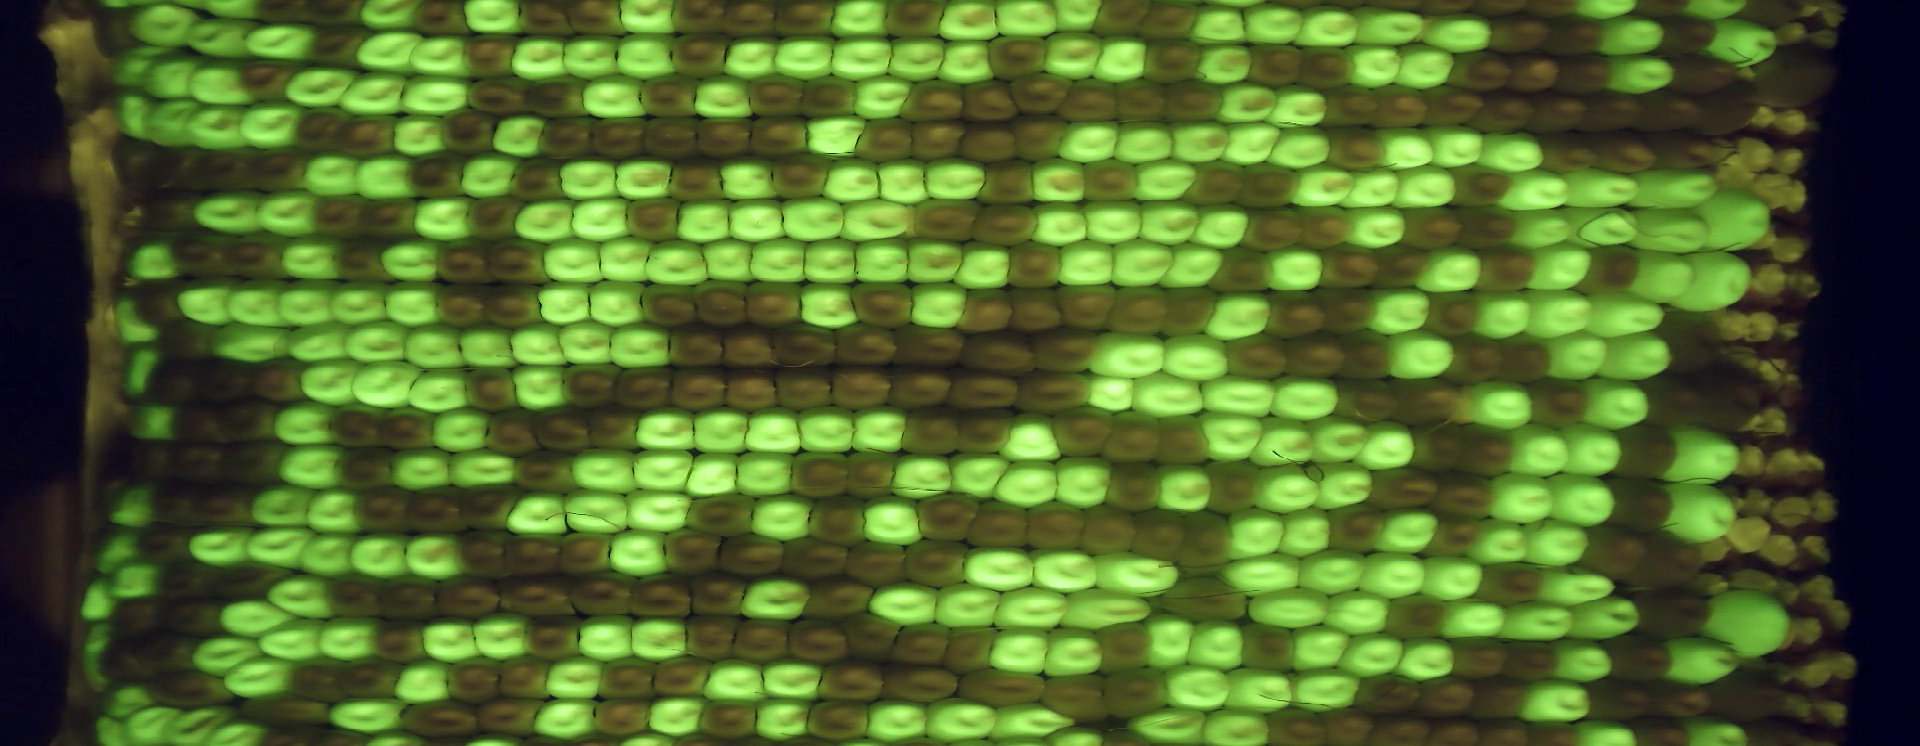fluorescent: (1700, 582, 1796, 668), (1660, 420, 1750, 492), (1674, 246, 1757, 318), (1087, 545, 1191, 603), (1696, 183, 1776, 257), (1656, 478, 1740, 548), (1625, 201, 1718, 261), (1056, 584, 1156, 639), (1082, 323, 1176, 382), (1581, 285, 1671, 345), (1596, 323, 1678, 390), (1656, 631, 1745, 691), (1513, 284, 1600, 345), (1542, 468, 1622, 533), (1629, 160, 1725, 214), (562, 440, 647, 501), (1381, 326, 1462, 390), (1243, 461, 1327, 521), (1411, 239, 1490, 303), (1512, 671, 1599, 729), (1245, 412, 1324, 475), (1575, 375, 1654, 437), (1215, 661, 1299, 720), (1265, 369, 1349, 428), (1704, 10, 1787, 70), (1495, 419, 1577, 479), (1558, 200, 1644, 256), (184, 55, 262, 118), (1351, 546, 1434, 605), (347, 355, 426, 416), (204, 316, 299, 367), (1216, 548, 1310, 599), (249, 181, 324, 245), (1558, 160, 1647, 214), (981, 699, 1090, 744), (991, 405, 1069, 467), (1283, 661, 1367, 719), (1160, 327, 1236, 390), (862, 575, 948, 630), (742, 489, 824, 546), (240, 519, 322, 577), (1198, 371, 1281, 428), (1127, 369, 1213, 423), (272, 439, 351, 497), (1629, 244, 1702, 307), (1554, 419, 1629, 481), (1036, 26, 1112, 87), (224, 273, 300, 334), (1199, 285, 1275, 347), (955, 539, 1043, 592), (628, 399, 705, 459), (1464, 374, 1536, 439), (253, 611, 332, 670), (1304, 456, 1382, 514), (917, 693, 1007, 745), (400, 526, 474, 588), (993, 582, 1076, 637), (1119, 698, 1215, 746), (713, 149, 789, 209), (173, 273, 249, 333), (504, 194, 585, 250), (1293, 545, 1374, 601), (1245, 584, 1336, 635), (1104, 233, 1182, 292), (736, 401, 813, 459), (216, 654, 304, 706), (606, 523, 677, 587), (122, 1, 208, 54), (104, 40, 182, 98), (737, 570, 816, 627), (1156, 659, 1234, 717), (1359, 282, 1433, 343), (1195, 407, 1269, 468), (1284, 619, 1359, 679), (156, 695, 242, 746), (1516, 514, 1597, 570), (135, 89, 204, 153), (557, 483, 634, 540), (1365, 119, 1442, 176), (238, 18, 328, 67), (1037, 620, 1109, 681), (578, 70, 656, 126), (392, 71, 478, 122), (1466, 284, 1539, 344), (1484, 469, 1558, 529), (1463, 511, 1537, 571), (234, 96, 309, 154), (414, 611, 489, 670), (1024, 543, 1103, 598), (1368, 503, 1447, 559), (1185, 612, 1251, 679), (899, 232, 975, 289), (272, 277, 348, 334), (1524, 239, 1600, 296), (754, 652, 835, 706), (1305, 407, 1378, 467), (322, 690, 413, 737), (857, 692, 939, 745), (1498, 595, 1580, 648), (276, 230, 349, 289), (1416, 9, 1501, 59), (502, 316, 577, 374), (602, 316, 677, 374), (640, 235, 720, 289), (180, 11, 263, 62), (186, 186, 269, 238), (1049, 452, 1118, 514), (1271, 502, 1340, 565), (407, 191, 482, 247), (624, 442, 700, 499), (135, 48, 206, 108), (244, 479, 324, 532), (334, 65, 411, 120), (313, 611, 391, 666), (1053, 234, 1125, 293), (298, 350, 370, 409), (1495, 165, 1580, 216), (949, 236, 1022, 294), (741, 232, 814, 289), (790, 401, 863, 458), (1107, 115, 1185, 169), (497, 488, 576, 541), (1599, 49, 1681, 100), (181, 98, 256, 154), (376, 233, 451, 289), (1258, 241, 1332, 298), (1419, 119, 1495, 174), (1220, 503, 1291, 562), (989, 453, 1062, 511), (383, 439, 456, 496), (984, 621, 1057, 679), (1184, 197, 1256, 255), (181, 522, 262, 573), (1527, 566, 1621, 610), (1474, 125, 1551, 179), (1539, 330, 1616, 383), (347, 149, 420, 206), (441, 443, 525, 492), (698, 652, 771, 708), (529, 690, 602, 746), (856, 491, 924, 551), (880, 450, 956, 503), (684, 403, 760, 457), (620, 485, 696, 539), (1569, 593, 1644, 647), (1209, 75, 1284, 129), (729, 447, 801, 503), (425, 403, 497, 459), (609, 29, 686, 82), (841, 194, 918, 246), (1594, 10, 1671, 62), (1156, 457, 1221, 519), (323, 274, 397, 330), (1414, 550, 1488, 605), (214, 595, 301, 642), (1347, 2, 1431, 50), (280, 62, 359, 114), (1153, 239, 1228, 293), (264, 570, 339, 624), (817, 152, 887, 209), (1164, 114, 1236, 170), (624, 611, 696, 668), (920, 152, 996, 205), (931, 579, 1007, 632), (190, 628, 269, 679), (86, 521, 149, 583), (1353, 416, 1420, 475), (849, 232, 917, 289), (1131, 195, 1206, 247), (400, 365, 475, 418), (1336, 628, 1411, 681), (590, 230, 660, 287), (845, 401, 915, 457), (345, 529, 415, 586), (770, 29, 841, 85), (880, 29, 951, 85), (457, 147, 528, 202), (904, 278, 975, 333), (348, 27, 424, 78), (744, 692, 820, 744), (1236, 1, 1315, 50), (269, 396, 342, 450), (642, 688, 714, 742), (1389, 160, 1461, 214), (1340, 198, 1412, 252), (573, 608, 640, 665), (1141, 608, 1199, 675), (1545, 635, 1622, 685), (1433, 595, 1513, 643), (800, 110, 869, 165), (529, 274, 599, 330), (944, 448, 1014, 503), (1265, 78, 1335, 134), (827, 32, 901, 83), (340, 317, 415, 369), (580, 276, 651, 330), (1291, 2, 1367, 53), (800, 232, 866, 289), (302, 481, 369, 539), (468, 609, 535, 665), (282, 316, 359, 365), (399, 318, 468, 374), (793, 279, 867, 331), (1265, 122, 1338, 174), (719, 31, 789, 85), (1025, 152, 1095, 206), (671, 194, 741, 247), (724, 194, 793, 247), (1081, 194, 1151, 247), (452, 318, 522, 372), (1390, 39, 1460, 93), (1051, 118, 1125, 168), (1213, 119, 1284, 171), (1289, 160, 1360, 213), (100, 479, 165, 537), (1087, 31, 1153, 87), (553, 314, 620, 370), (389, 652, 456, 708), (555, 29, 623, 83), (849, 71, 917, 125), (871, 156, 939, 209), (567, 192, 636, 246), (681, 448, 749, 502), (542, 649, 611, 703), (76, 619, 121, 699), (933, 33, 998, 89), (403, 29, 474, 81), (380, 276, 446, 331), (1498, 206, 1573, 254), (507, 33, 576, 86), (780, 192, 849, 245), (540, 234, 609, 287), (293, 529, 362, 581), (1187, 38, 1258, 88), (107, 81, 160, 147), (689, 70, 757, 122), (1393, 633, 1461, 686), (1133, 157, 1202, 207), (302, 149, 367, 203), (1341, 38, 1406, 92), (552, 157, 627, 203), (1195, 703, 1276, 746), (105, 292, 165, 349), (1025, 198, 1095, 247), (115, 697, 185, 746), (931, 1, 1008, 45), (612, 151, 678, 202), (384, 111, 456, 159), (486, 111, 553, 162), (120, 235, 187, 285), (104, 550, 165, 605), (697, 234, 759, 288), (1322, 589, 1395, 636), (1335, 163, 1404, 211), (987, 1, 1067, 43), (73, 570, 129, 630), (1183, 4, 1250, 51), (114, 343, 168, 402), (1081, 367, 1142, 418), (825, 1, 898, 40), (456, 1, 527, 40), (1678, 710, 1756, 746), (351, 1, 432, 36), (610, 1, 680, 40), (100, 677, 160, 722), (1562, 715, 1644, 746), (193, 717, 276, 746), (1047, 1, 1104, 37), (84, 710, 135, 746)
nonfluorescent: (1753, 40, 1850, 113), (1692, 356, 1769, 439), (1622, 583, 1720, 646), (1702, 664, 1793, 728), (1654, 306, 1731, 380), (1168, 505, 1240, 583), (1597, 474, 1682, 539), (1625, 526, 1707, 593), (1577, 516, 1654, 586), (1093, 661, 1178, 725), (1596, 630, 1686, 688), (1007, 363, 1101, 419), (1638, 367, 1713, 439), (955, 660, 1056, 712), (684, 485, 765, 548), (1160, 573, 1253, 627), (141, 663, 235, 715), (836, 534, 918, 594), (1400, 413, 1477, 477), (491, 570, 584, 622), (430, 565, 513, 624), (910, 486, 986, 550), (165, 223, 242, 285), (207, 555, 298, 608), (105, 132, 170, 206), (684, 272, 758, 337), (332, 647, 407, 710), (1689, 78, 1763, 142), (1629, 85, 1709, 143), (1360, 462, 1449, 516), (964, 495, 1041, 556), (1022, 322, 1104, 380), (1128, 503, 1196, 572), (1611, 420, 1682, 486), (846, 276, 926, 334), (1325, 372, 1409, 428), (801, 571, 882, 628), (1387, 374, 1468, 431), (219, 228, 295, 289), (1423, 464, 1499, 526), (1207, 243, 1284, 303), (765, 317, 842, 377), (213, 431, 290, 491), (1452, 415, 1520, 484), (1100, 456, 1171, 521), (1037, 668, 1116, 726), (773, 530, 851, 589), (1469, 552, 1548, 611), (480, 229, 553, 292), (942, 361, 1025, 416), (456, 475, 529, 538), (827, 317, 906, 375), (884, 321, 971, 374), (877, 660, 970, 709), (1018, 495, 1093, 555), (956, 327, 1041, 381), (129, 624, 209, 680), (910, 192, 988, 250), (1278, 327, 1353, 387), (806, 488, 874, 552), (471, 690, 556, 742), (393, 697, 489, 744), (1441, 157, 1518, 214), (1147, 409, 1218, 472), (348, 478, 419, 540), (948, 281, 1020, 342), (1232, 619, 1304, 680), (811, 657, 893, 710), (1095, 404, 1168, 464), (785, 445, 858, 505), (1660, 49, 1746, 100), (1311, 281, 1386, 339), (371, 571, 451, 626), (1580, 671, 1659, 726), (402, 145, 473, 206), (782, 611, 853, 673), (1259, 285, 1336, 342), (1380, 590, 1457, 647), (1223, 330, 1296, 390), (527, 401, 599, 461), (973, 154, 1047, 213), (1233, 158, 1307, 217), (1100, 282, 1174, 339), (840, 608, 907, 671), (440, 648, 508, 710), (969, 197, 1044, 254), (609, 360, 684, 416), (767, 361, 842, 418), (1073, 500, 1142, 561), (287, 652, 356, 713), (730, 612, 800, 674), (1320, 497, 1390, 559), (1489, 45, 1566, 100), (1089, 617, 1161, 676), (902, 533, 975, 592), (1520, 375, 1592, 434), (673, 608, 747, 665), (153, 589, 231, 643), (520, 609, 587, 673), (114, 430, 189, 486), (593, 654, 667, 710), (1589, 125, 1664, 181), (403, 479, 471, 540), (711, 529, 791, 582), (624, 567, 700, 622), (186, 352, 257, 410), (362, 612, 433, 671), (655, 522, 727, 579), (529, 111, 606, 165), (506, 443, 583, 497), (797, 695, 878, 746), (986, 31, 1059, 87), (666, 27, 740, 83), (1051, 278, 1124, 334), (1000, 233, 1067, 295), (1157, 281, 1224, 342), (1636, 674, 1718, 724), (566, 566, 640, 621), (1450, 198, 1524, 254), (1413, 668, 1483, 726), (1047, 401, 1123, 454), (1441, 331, 1512, 388), (738, 274, 811, 331), (664, 360, 736, 416), (1318, 120, 1390, 176), (1469, 241, 1542, 298), (896, 73, 973, 126), (1532, 10, 1609, 62), (1573, 88, 1651, 141), (351, 192, 425, 247), (824, 359, 898, 414), (680, 568, 753, 624), (1364, 80, 1438, 135), (768, 148, 836, 207), (1644, 125, 1723, 176), (1416, 80, 1490, 134), (583, 114, 653, 171), (896, 402, 966, 459), (478, 276, 549, 332), (664, 316, 735, 372), (1480, 6, 1551, 62), (240, 353, 316, 405), (1353, 670, 1429, 723), (557, 356, 629, 412), (1316, 78, 1389, 134), (331, 439, 397, 499), (454, 521, 514, 587), (323, 397, 391, 456), (190, 478, 263, 532), (888, 617, 955, 676), (693, 692, 767, 746), (373, 403, 442, 461), (322, 566, 391, 624), (1236, 205, 1310, 257), (714, 317, 784, 374), (165, 439, 235, 495), (1649, 6, 1719, 62), (103, 590, 174, 646), (1469, 85, 1542, 138), (462, 189, 528, 247), (236, 688, 336, 728), (1160, 76, 1233, 129), (849, 115, 922, 168), (301, 21, 375, 73), (743, 111, 817, 164), (1179, 157, 1253, 209), (1291, 40, 1360, 96), (1000, 282, 1070, 337), (167, 398, 236, 453), (1521, 86, 1591, 141), (1367, 239, 1436, 294), (189, 142, 260, 196), (636, 278, 707, 332), (1337, 325, 1400, 386), (839, 443, 904, 502), (1442, 45, 1518, 96), (144, 477, 211, 534), (497, 530, 569, 583), (904, 115, 977, 167), (459, 71, 533, 122), (951, 403, 1020, 458), (480, 404, 549, 459), (213, 394, 287, 446), (151, 555, 224, 606), (1313, 241, 1382, 295), (651, 647, 715, 706), (1138, 36, 1209, 88), (1056, 75, 1127, 127), (793, 70, 864, 122), (501, 152, 572, 205), (1547, 48, 1618, 100), (1444, 631, 1515, 684), (620, 192, 686, 249), (882, 360, 954, 412), (91, 636, 163, 687), (130, 514, 198, 568), (328, 111, 402, 162), (741, 70, 811, 122), (525, 70, 595, 122), (691, 113, 760, 165), (719, 366, 789, 419), (1498, 327, 1558, 388), (246, 140, 309, 198), (289, 102, 354, 158), (580, 399, 645, 456), (495, 649, 560, 706), (587, 691, 658, 742), (1464, 674, 1536, 725), (433, 104, 500, 159), (331, 233, 397, 288), (636, 69, 703, 122), (664, 154, 731, 208), (432, 232, 500, 285), (1496, 633, 1564, 687), (637, 111, 705, 164), (937, 622, 1005, 675), (234, 54, 304, 105), (459, 29, 524, 85), (307, 192, 373, 246), (140, 358, 206, 412), (144, 143, 212, 196), (136, 184, 203, 236), (1007, 69, 1079, 118), (552, 528, 621, 579), (1204, 459, 1265, 517), (953, 118, 1022, 168), (1419, 510, 1489, 560), (1400, 205, 1467, 256), (86, 2, 144, 61), (1422, 284, 1480, 343), (1107, 73, 1176, 124), (1533, 126, 1602, 176), (1009, 111, 1071, 167), (1581, 243, 1644, 296), (955, 77, 1025, 126), (1075, 156, 1145, 205), (1292, 201, 1357, 254), (427, 278, 489, 333), (460, 363, 523, 416), (153, 316, 222, 365), (1247, 37, 1307, 92), (129, 276, 189, 330), (1313, 702, 1385, 746), (1262, 702, 1333, 746), (768, 1, 842, 43), (879, 1, 953, 43), (1130, 1, 1202, 43), (560, 1, 636, 40), (1082, 1, 1153, 40), (716, 1, 786, 40), (407, 1, 478, 39), (1464, 710, 1537, 746), (514, 1, 579, 40), (1624, 709, 1691, 746), (1728, 1, 1809, 32), (669, 1, 732, 39), (1367, 712, 1436, 746), (298, 1, 365, 31), (1518, 717, 1584, 746), (1420, 714, 1480, 746), (249, 1, 312, 31)
